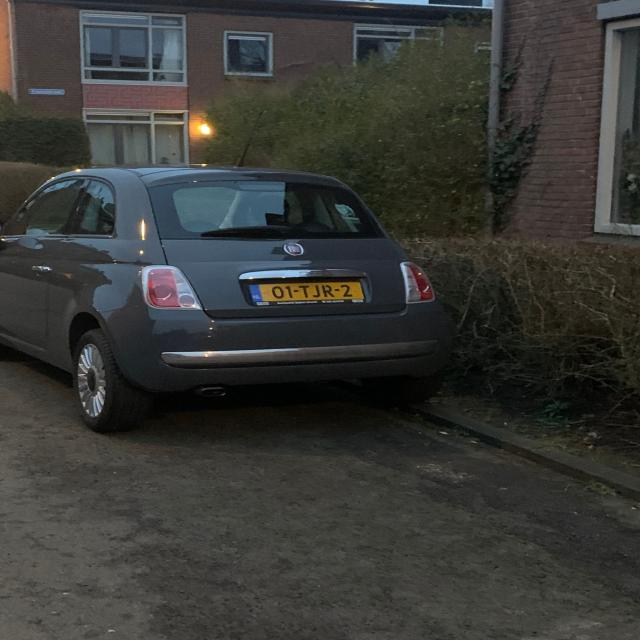plate: (246, 278, 368, 305)
